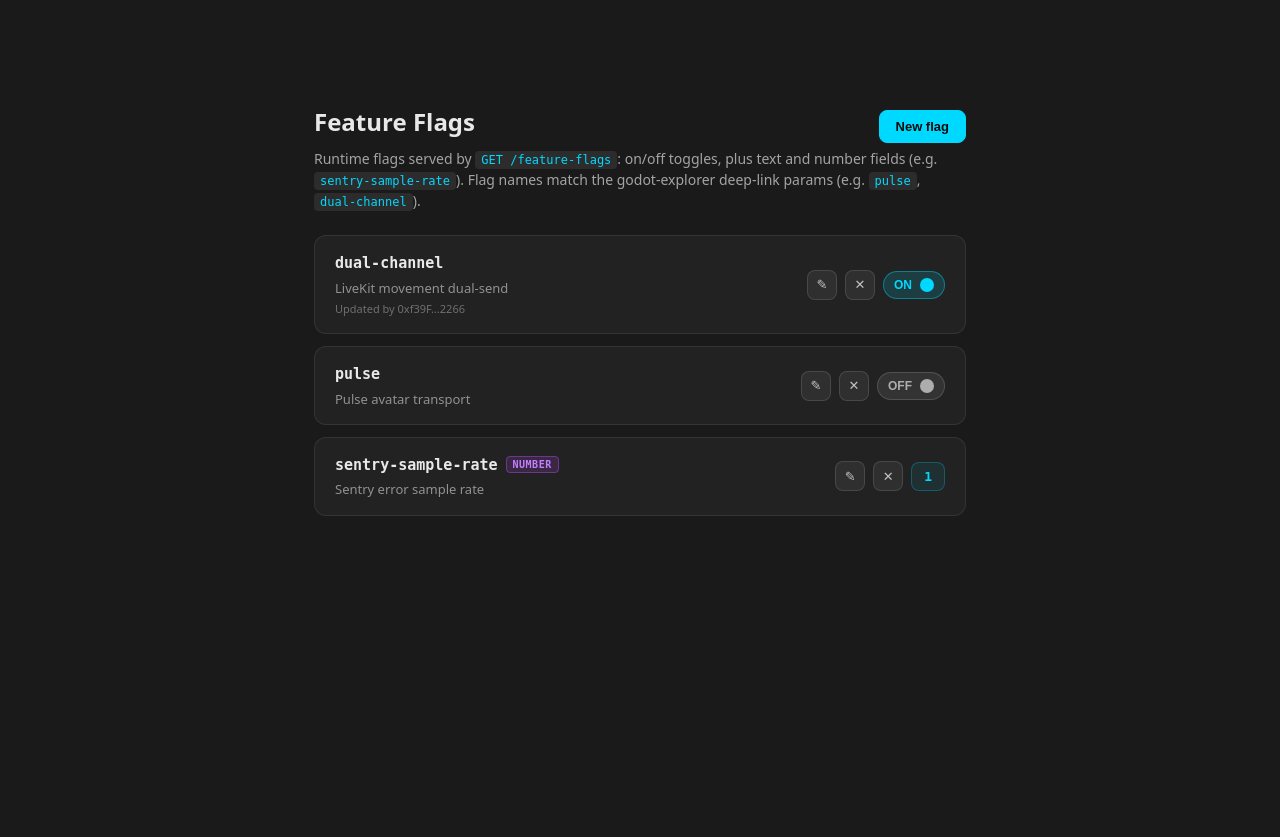
Scenario: FeatureFlagsPage › rejects a non-numeric value when creating a number flag
This screenshot has width=1280, height=837.
Click the button "New flag" at (922, 126), box x1=878 y1=110 x2=966 y2=142
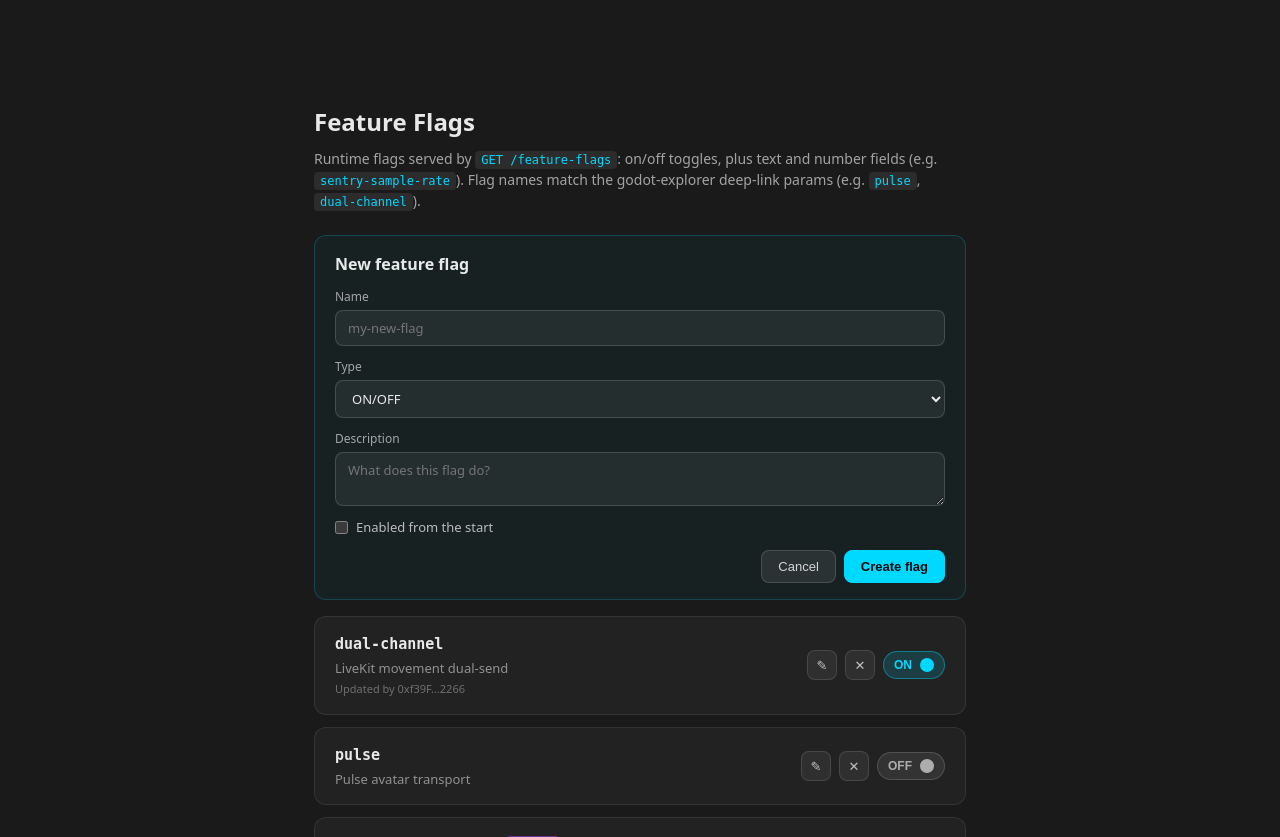
Type "spawn-radius" into the field named "Flag name" at (640, 328), box x1=335 y1=310 x2=945 y2=346
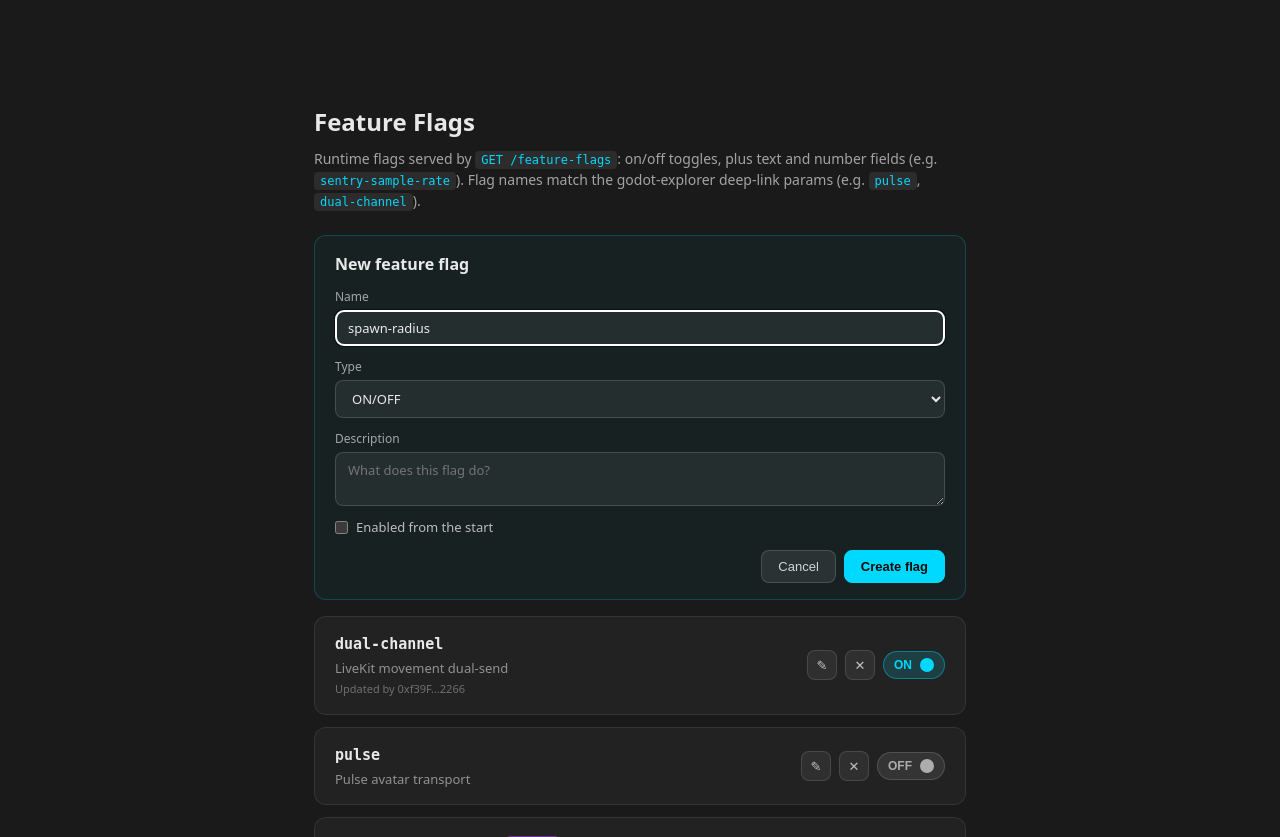
Select "Number" in the dropdown named "Flag type" at (640, 399), box x1=335 y1=380 x2=945 y2=418
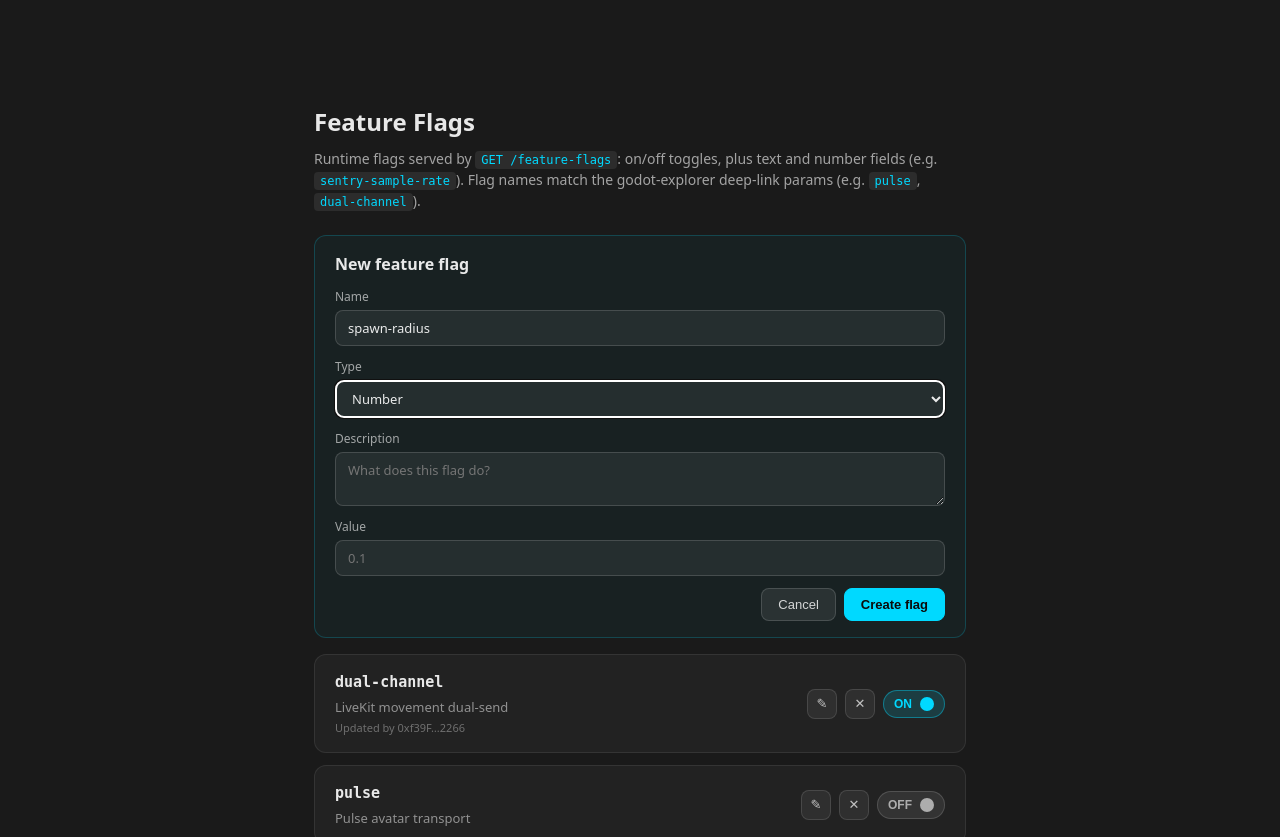
Type "1e3" into the field named "Flag value" at (640, 558), box x1=335 y1=540 x2=945 y2=576
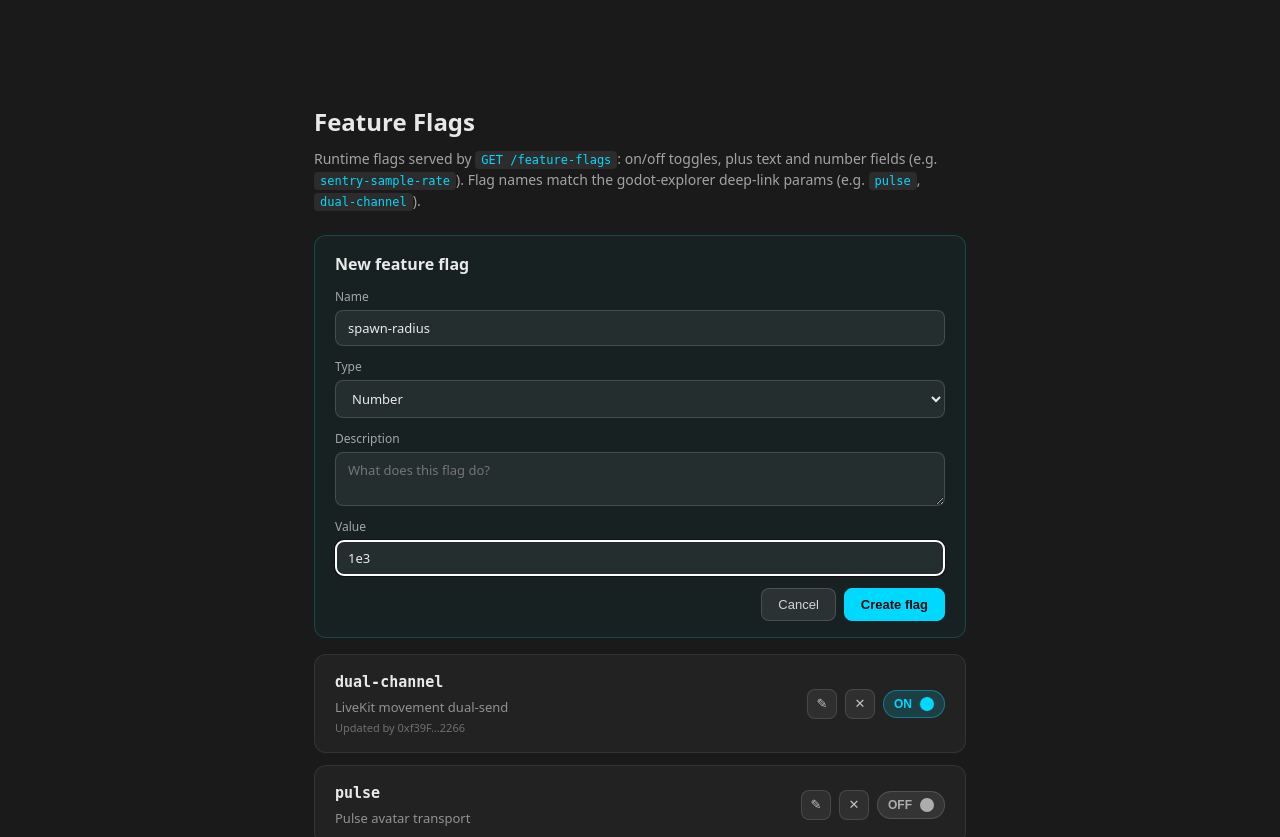
Click the button "Create flag" at (894, 604), box x1=844 y1=588 x2=945 y2=621
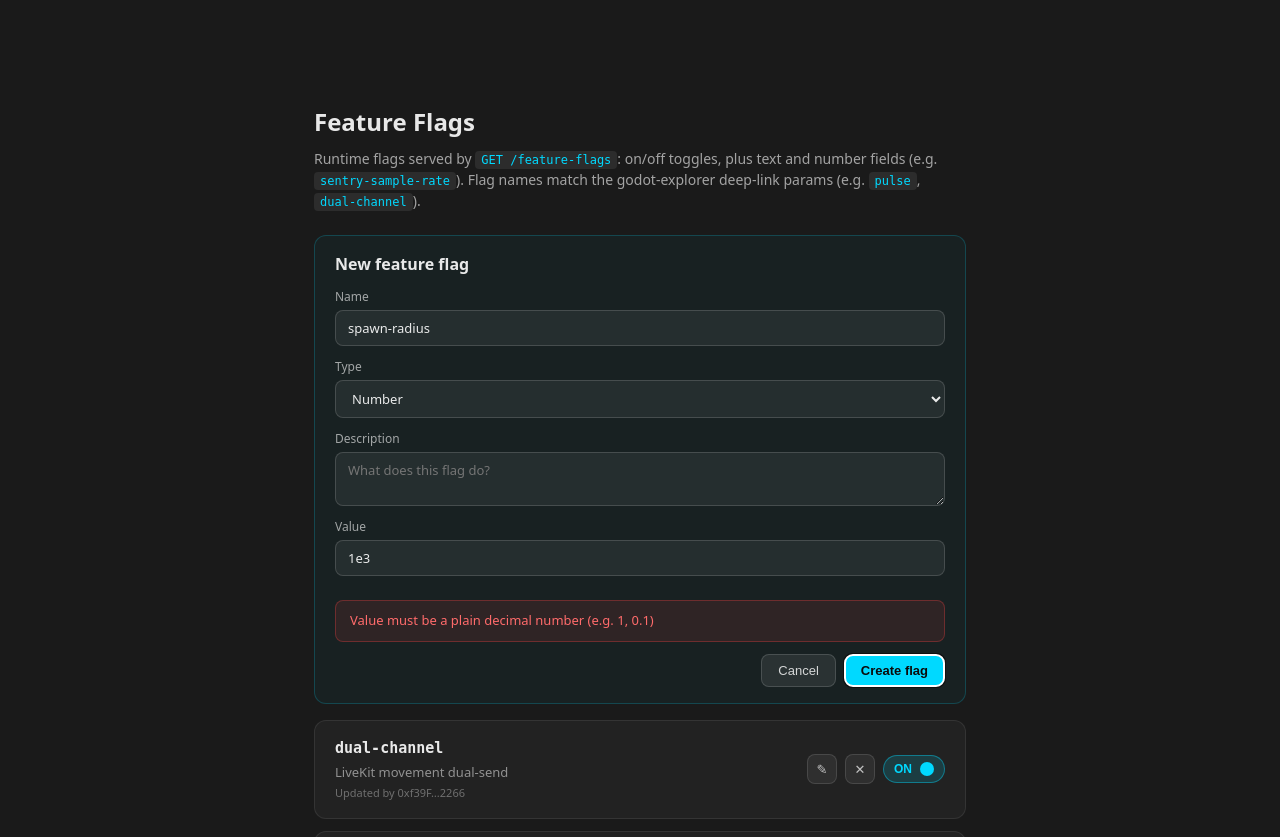
Expected: the text "Value must be a plain decimal number (e.g. 1, 0.1)" is shown, x1=335 y1=600 x2=945 y2=642
